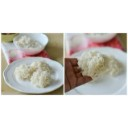idiyappam: (32, 68, 51, 87), (15, 63, 32, 81)
